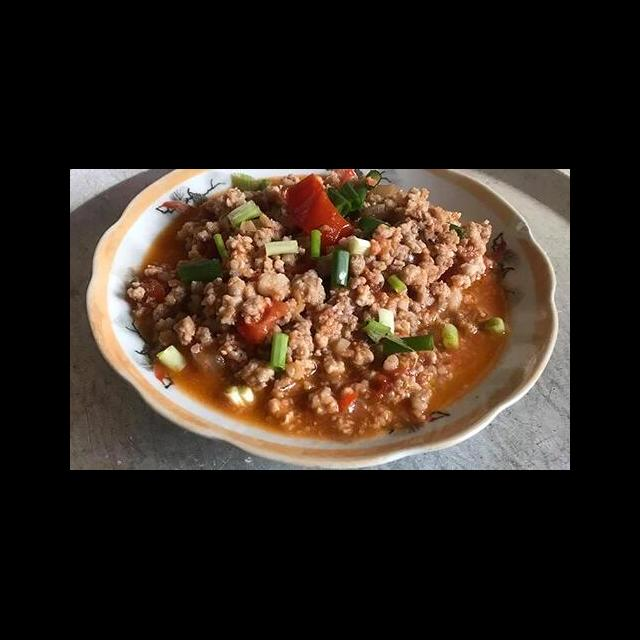thit bam: (120, 170, 500, 440)
